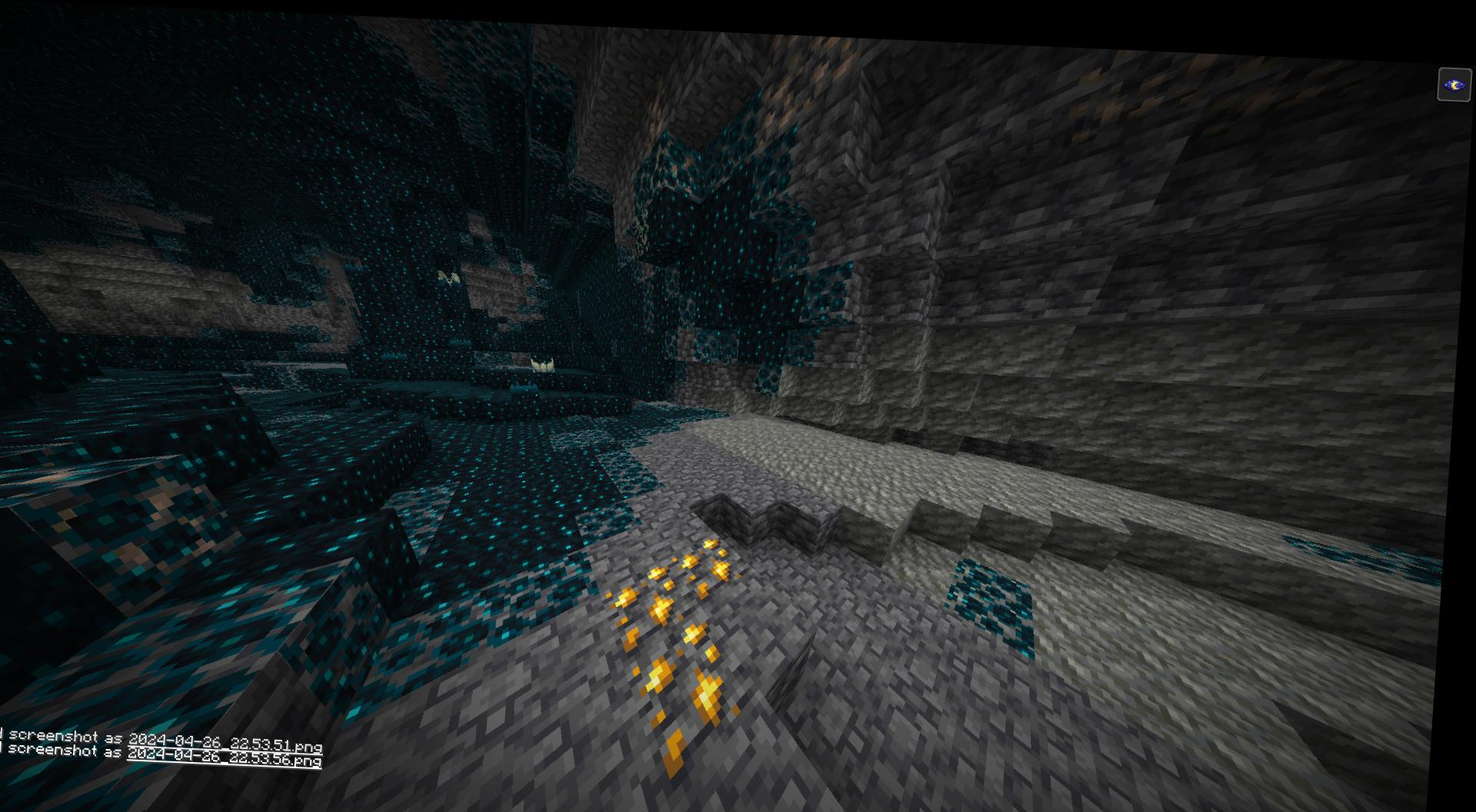gold ore: (635, 612, 757, 758), (613, 556, 696, 643), (678, 527, 756, 588)
iron ore: (1070, 38, 1335, 144), (762, 27, 853, 124)
